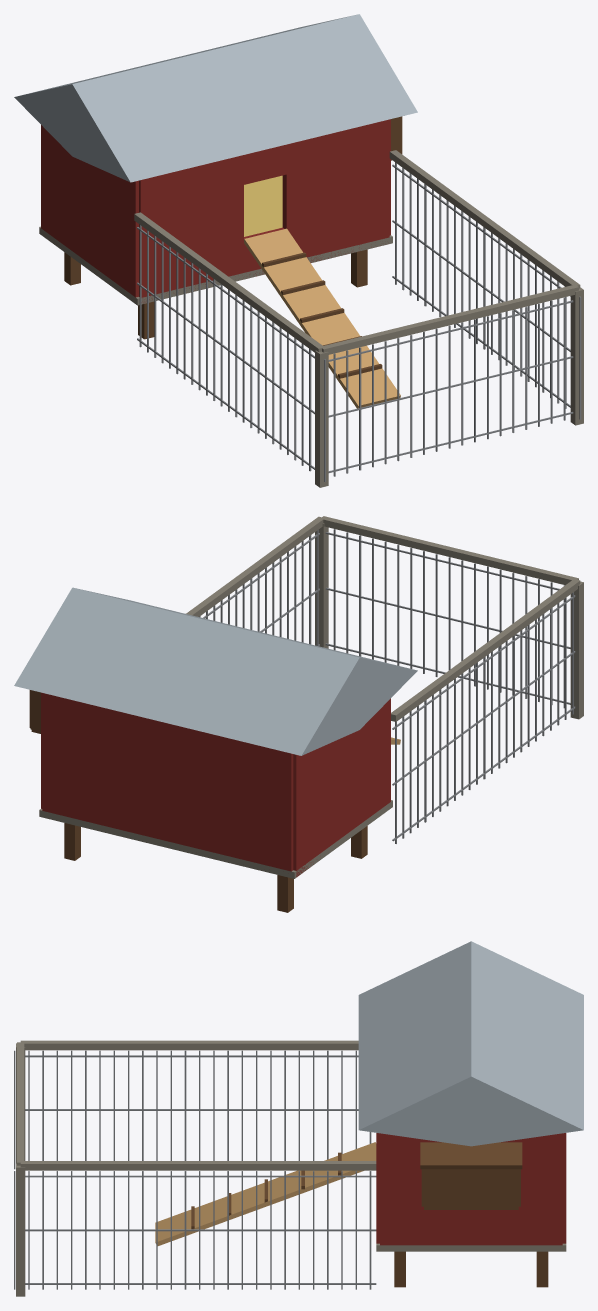
Rendered from FM_ChickenCoop_01.glb.
3 views of the same model, one above another, from view 1: azimuth 30°, elevation 25°; view 2: azimuth 150°, elevation 25°; view 3: azimuth 270°, elevation 25° (orthographic). The views are drawn at different scales.
Visible parts, largest first — view 1: FM_ChickenCoop_01; view 2: FM_ChickenCoop_01; view 3: FM_ChickenCoop_01.
Boxes of the visible parts, box(x1,y1,x2,y2) form: FM_ChickenCoop_01: box(14, 14, 583, 487); FM_ChickenCoop_01: box(14, 516, 583, 912); FM_ChickenCoop_01: box(14, 941, 583, 1296).
Size of the model in its own units: 2.88 by 2.12 by 4.81.
1 material, 1 textured.
